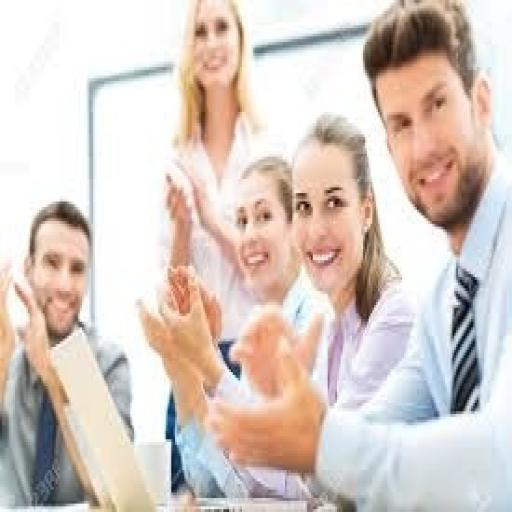clapping: (201, 0, 510, 509), (147, 0, 268, 498), (0, 196, 134, 509)
